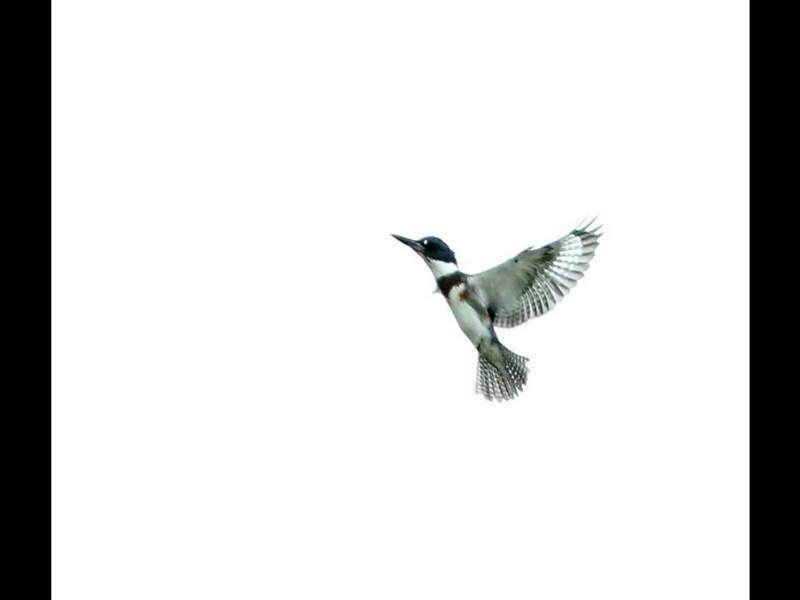kingfisher: (389, 216, 603, 401)
